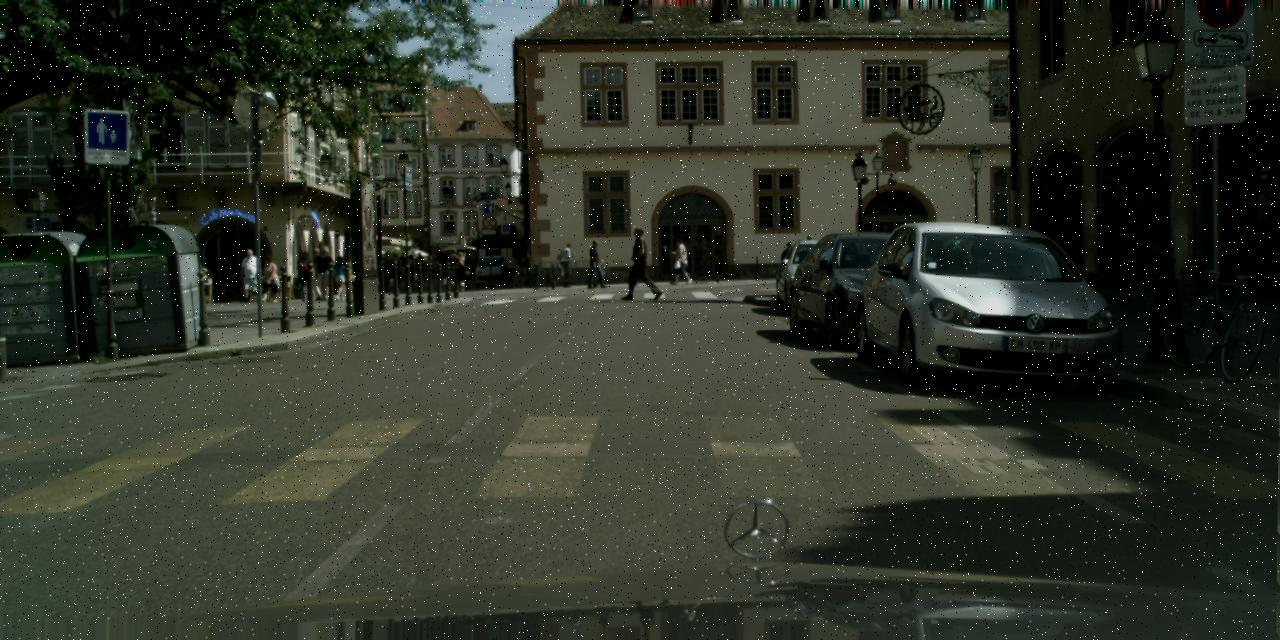ped: (626, 227, 655, 299), (773, 242, 798, 303), (312, 246, 334, 300), (306, 248, 327, 300), (240, 249, 260, 302), (294, 250, 314, 300), (586, 240, 606, 288), (670, 238, 689, 284), (799, 233, 818, 279), (260, 256, 278, 302), (559, 242, 577, 287), (414, 252, 440, 282), (331, 257, 348, 300), (445, 248, 461, 290), (378, 252, 394, 291), (553, 248, 568, 286), (452, 252, 467, 288), (403, 254, 418, 288), (462, 250, 476, 284), (518, 251, 531, 283), (390, 253, 402, 285), (505, 255, 517, 287), (397, 252, 408, 282), (462, 256, 473, 284), (498, 261, 508, 287), (512, 262, 522, 286)
